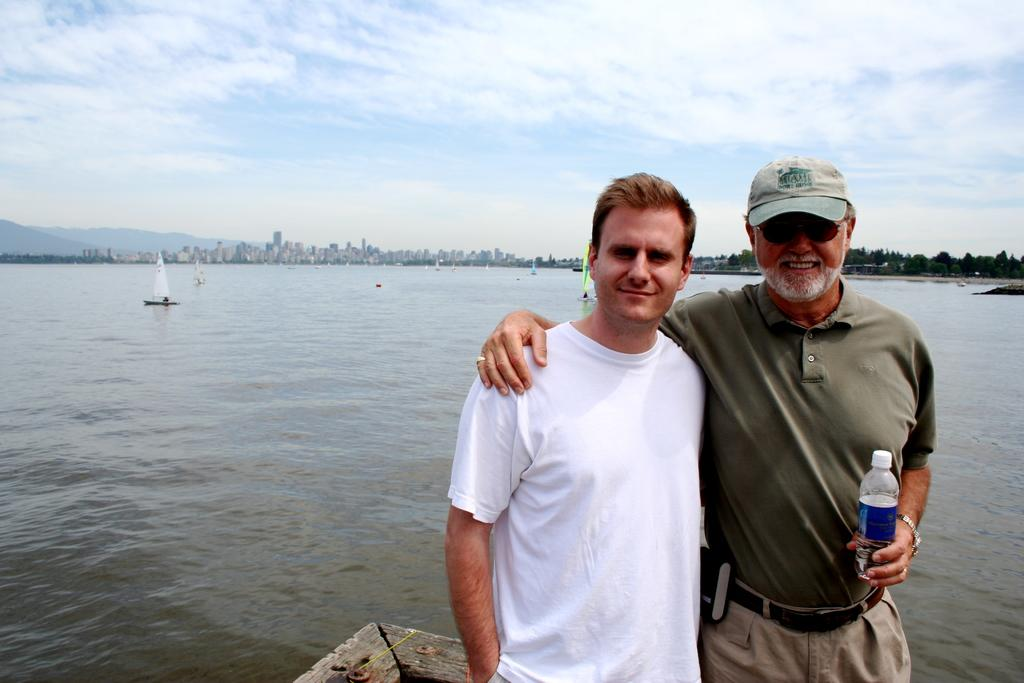Hat: (750, 162, 850, 226)
